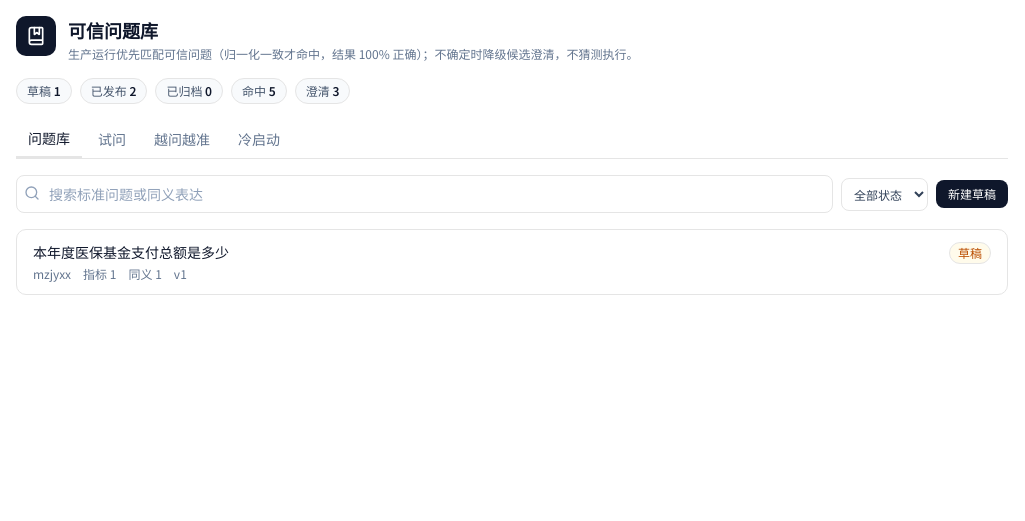
Test case: QuestionLibraryPage 可信问题库页 › 展开草稿行可审核发布并刷新
Click the button with test id "qlib-row" at [131, 252], box left=17, top=230, right=1007, bottom=294
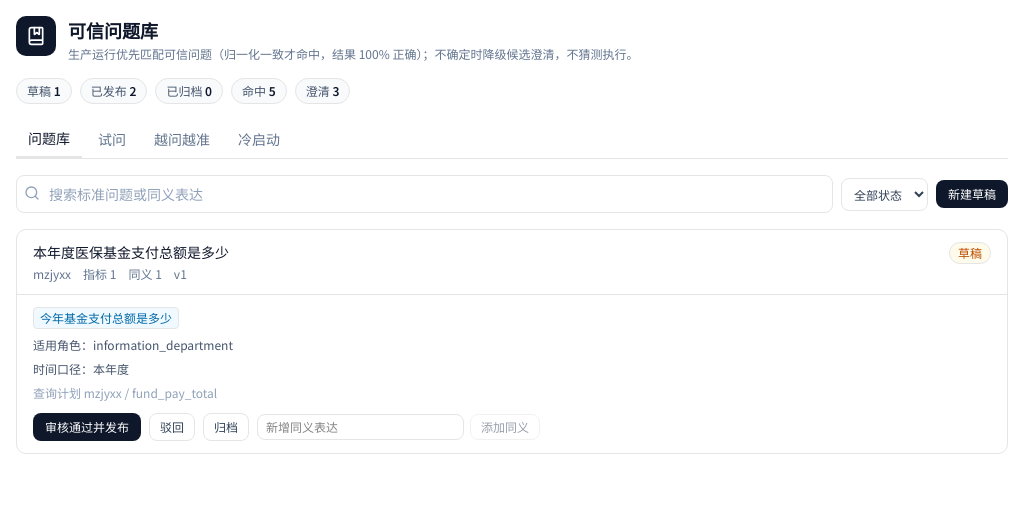
Result: the element with test id "qlib-detail" is shown at left=17, top=294, right=1007, bottom=453
Click the button with test id "qlib-approve-button" at [87, 427], box left=33, top=413, right=141, bottom=441
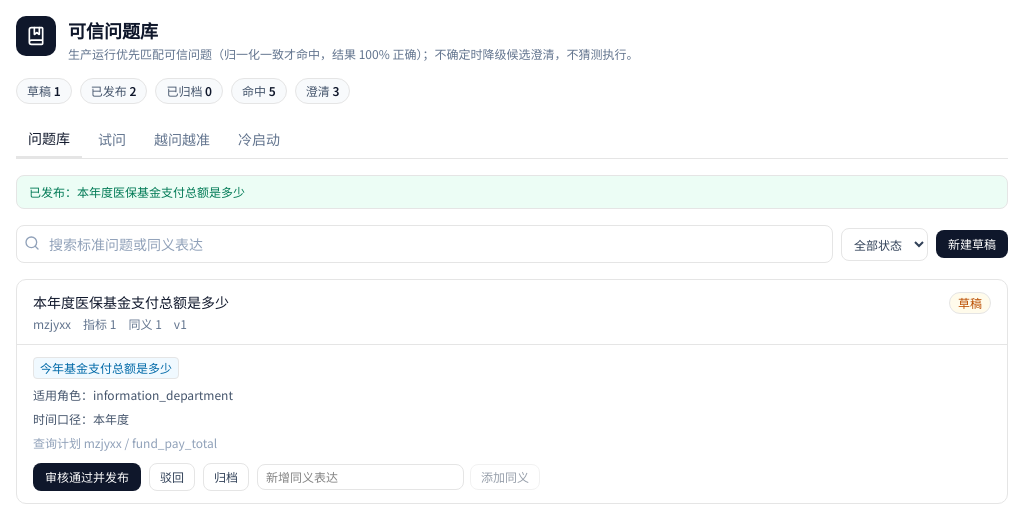
Result: the text with test id "qlib-note" shows "已发布" at left=29, top=183, right=245, bottom=200
